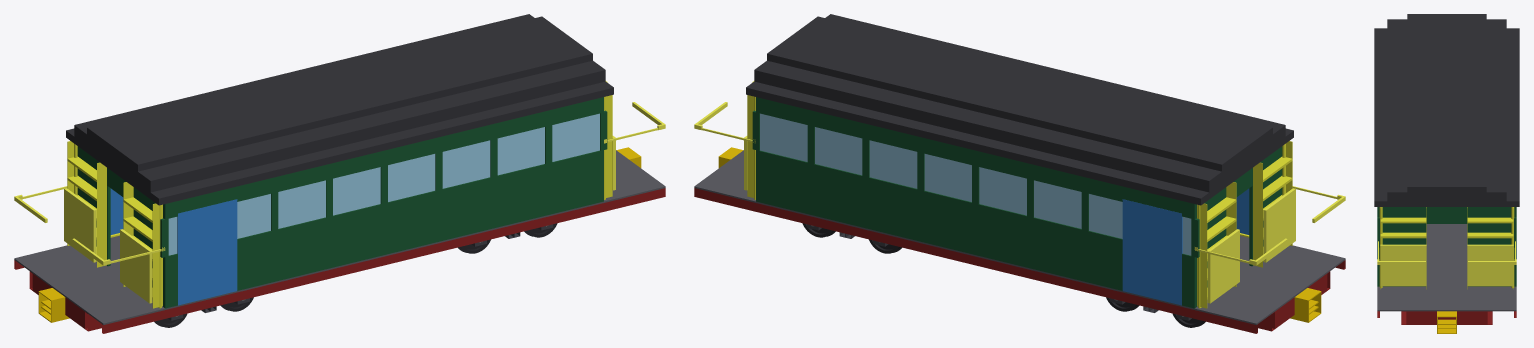
The model's file is PF-C300A_coach_accessible.glb.
The picture shows the model from 3 angles, left to right: view 1: azimuth 30°, elevation 25°; view 2: azimuth 150°, elevation 25°; view 3: azimuth 270°, elevation 25°; orthographic projection. The views are drawn at different scales.
Visible parts, largest first — view 1: 141 roof clerestory, 114 side wall lower (HSS2x2x1-8 frame + skin), 140 roof crown, 094 floor 1 in composite panel, 139 roof eave, 115 side wall upper - letter board, 203 42 in accessible side door (both sides), 087 side sill HSS6x2x3-16, 130 window (polycarbonate), 127 window (polycarbonate), 128 window (polycarbonate), 131 window (polycarbonate) (+13 smaller); view 2: 141 roof clerestory, 095 side wall lower (HSS2x2x1-8 frame + skin), 140 roof crown, 094 floor 1 in composite panel, 139 roof eave, 096 side wall upper - letter board, 194 42 in accessible side door (both sides), 081 side sill HSS6x2x3-16, 111 window (polycarbonate), 108 window (polycarbonate), 109 window (polycarbonate), 112 window (polycarbonate) (+13 smaller); view 3: 141 roof clerestory, 140 roof crown, 094 floor 1 in composite panel, 139 roof eave, 174 S1 stowed handrails (folded flat), 192 S1 stowed handrails (folded flat), 137 end wall (32 in centred door), 136 end wall (32 in centred door), 003 end sill HSS12x4x1-4, 138 end wall over door, 172 S1 stair stowed - tread, 173 S1 stair stowed - tread (+7 smaller).
Part boxes in pixels (left/top/right/bottom): 141 roof clerestory: left=87, top=16, right=592, bottom=171; 114 side wall lower (HSS2x2x1-8 frame + skin): left=163, top=150, right=603, bottom=308; 140 roof crown: left=74, top=14, right=605, bottom=192; 094 floor 1 in composite panel: left=14, top=150, right=665, bottom=324; 139 roof eave: left=66, top=81, right=613, bottom=205; 115 side wall upper - letter board: left=163, top=97, right=603, bottom=219; 203 42 in accessible side door (both sides): left=177, top=199, right=237, bottom=305; 087 side sill HSS6x2x3-16: left=102, top=188, right=665, bottom=333; 130 window (polycarbonate): left=442, top=140, right=490, bottom=188; 127 window (polycarbonate): left=278, top=180, right=325, bottom=228; 128 window (polycarbonate): left=333, top=167, right=380, bottom=215; 131 window (polycarbonate): left=497, top=127, right=544, bottom=175; 141 roof clerestory: left=767, top=16, right=1272, bottom=171; 095 side wall lower (HSS2x2x1-8 frame + skin): left=756, top=150, right=1195, bottom=308; 140 roof crown: left=754, top=14, right=1285, bottom=192; 094 floor 1 in composite panel: left=694, top=150, right=1345, bottom=324; 139 roof eave: left=746, top=81, right=1293, bottom=205; 096 side wall upper - letter board: left=756, top=97, right=1195, bottom=219; 194 42 in accessible side door (both sides): left=1122, top=199, right=1182, bottom=305; 081 side sill HSS6x2x3-16: left=694, top=188, right=1257, bottom=333; 111 window (polycarbonate): left=869, top=140, right=917, bottom=188; 108 window (polycarbonate): left=1034, top=180, right=1081, bottom=228; 109 window (polycarbonate): left=979, top=167, right=1026, bottom=215; 112 window (polycarbonate): left=815, top=127, right=862, bottom=175; 141 roof clerestory: left=1407, top=14, right=1486, bottom=192; 140 roof crown: left=1387, top=19, right=1506, bottom=201; 094 floor 1 in composite panel: left=1377, top=224, right=1516, bottom=311; 139 roof eave: left=1374, top=28, right=1519, bottom=206; 174 S1 stowed handrails (folded flat): left=1467, top=244, right=1513, bottom=286; 192 S1 stowed handrails (folded flat): left=1380, top=244, right=1426, bottom=286; 137 end wall (32 in centred door): left=1377, top=207, right=1426, bottom=286; 136 end wall (32 in centred door): left=1467, top=207, right=1516, bottom=286; 003 end sill HSS12x4x1-4: left=1406, top=311, right=1487, bottom=324; 138 end wall over door: left=1426, top=207, right=1467, bottom=223; 172 S1 stair stowed - tread: left=1467, top=232, right=1513, bottom=238; 173 S1 stair stowed - tread: left=1467, top=217, right=1513, bottom=223.
Bounding box in the file's own units: 10660 × 3114 × 2914.
